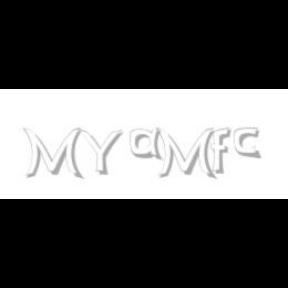M: (22, 128, 82, 180), (156, 128, 215, 180)
Y: (77, 128, 123, 176)
a: (130, 128, 166, 160)
c: (234, 128, 262, 160)
f: (211, 128, 235, 174)
